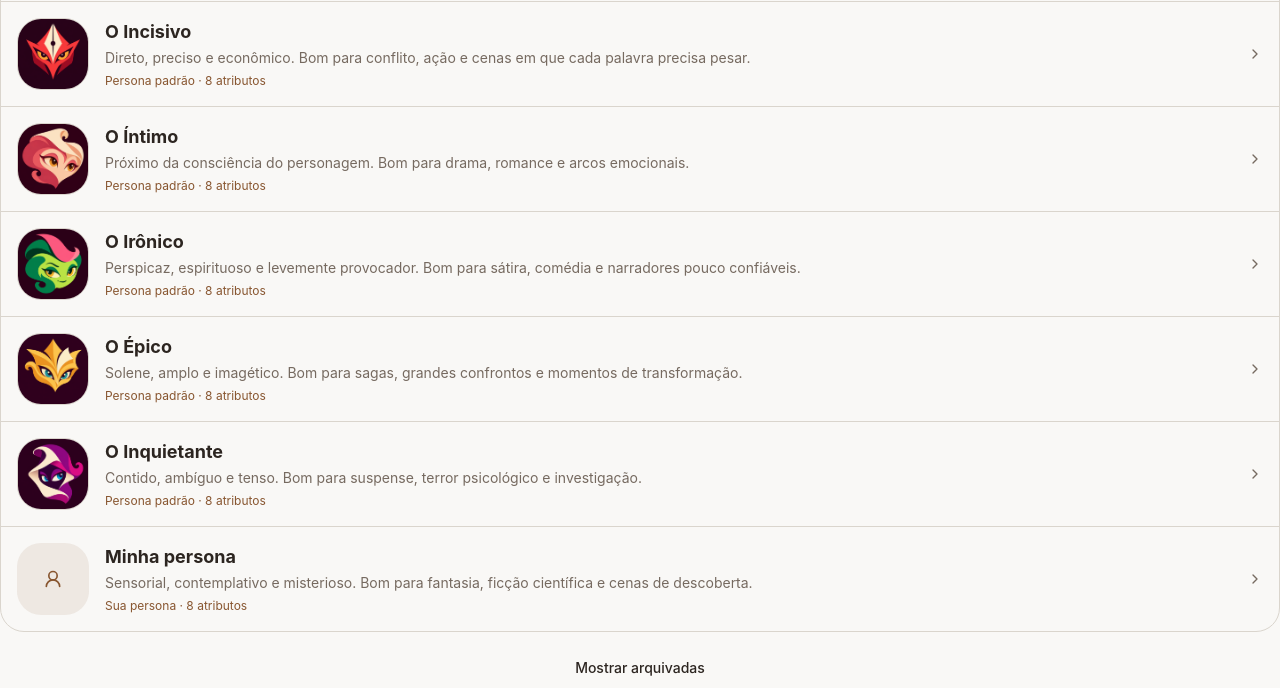
Test: edita, arquiva, reativa e cancela sem alterar as personas padrão
(page scrolled)
What coordinates should you click on to do the following:
click the button with aria-label "Ver detalhes de Minha persona"
I would click on:
 (640, 579)
Its box is [1,527,1279,631].
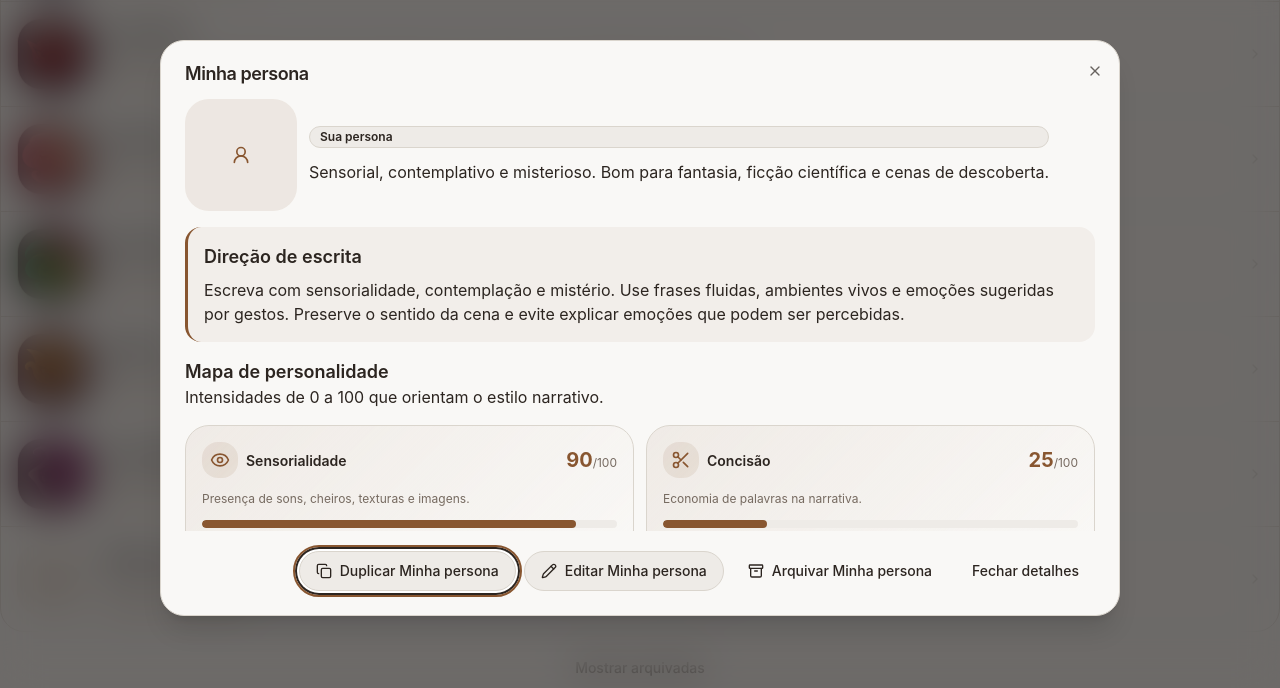
What coordinates should you click on to do the following:
click the button "Editar Minha persona"
I would click on:
 (624, 571)
Its box is [524,551,724,591].
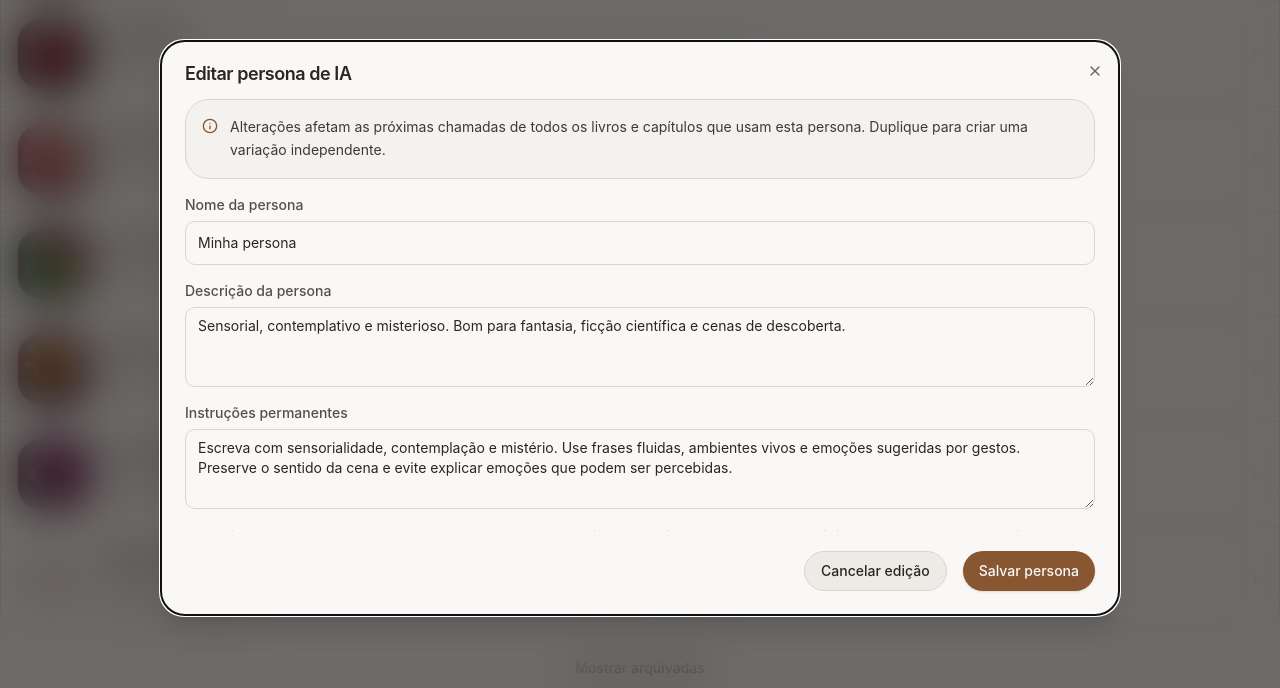
Check: the text "Alterações afetam" is shown, box [230,118,1028,158]
What coordinates should you click on to do the following:
click the button "Cancelar edição"
I would click on:
 (875, 571)
Its box is [804,551,947,591].
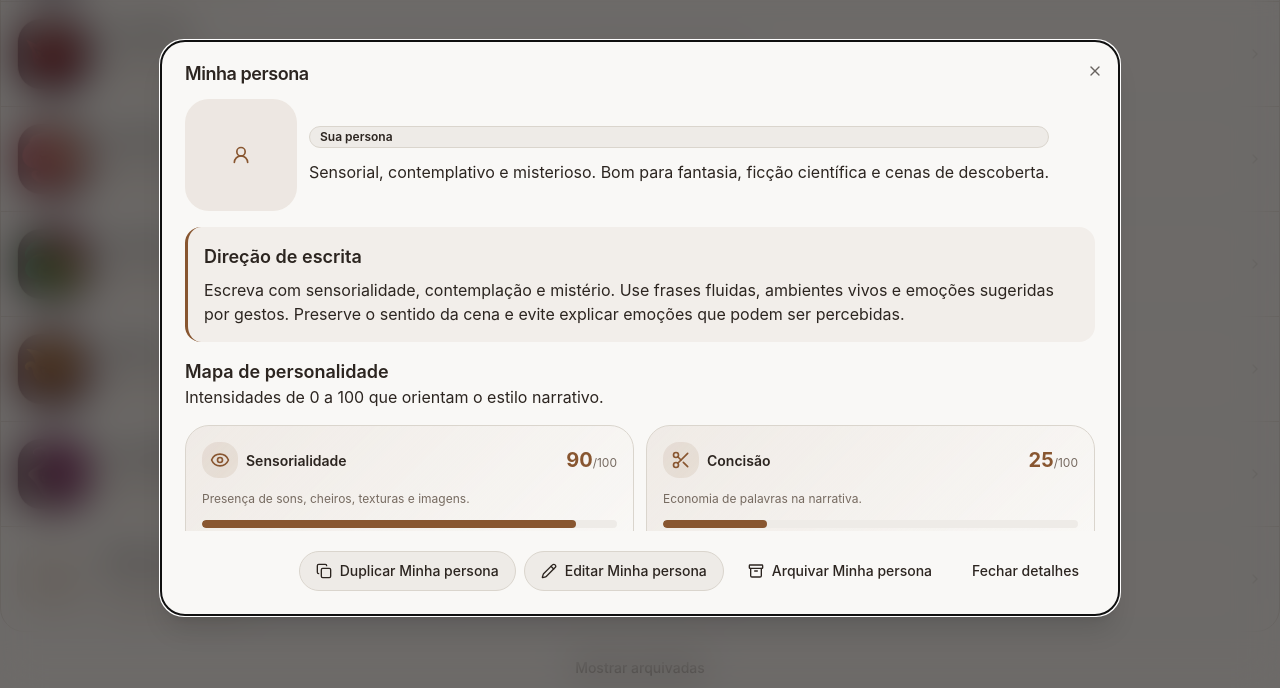
What coordinates should you click on to do the following:
click the button "Arquivar Minha persona"
I would click on:
 (840, 571)
Its box is [732,551,948,591].
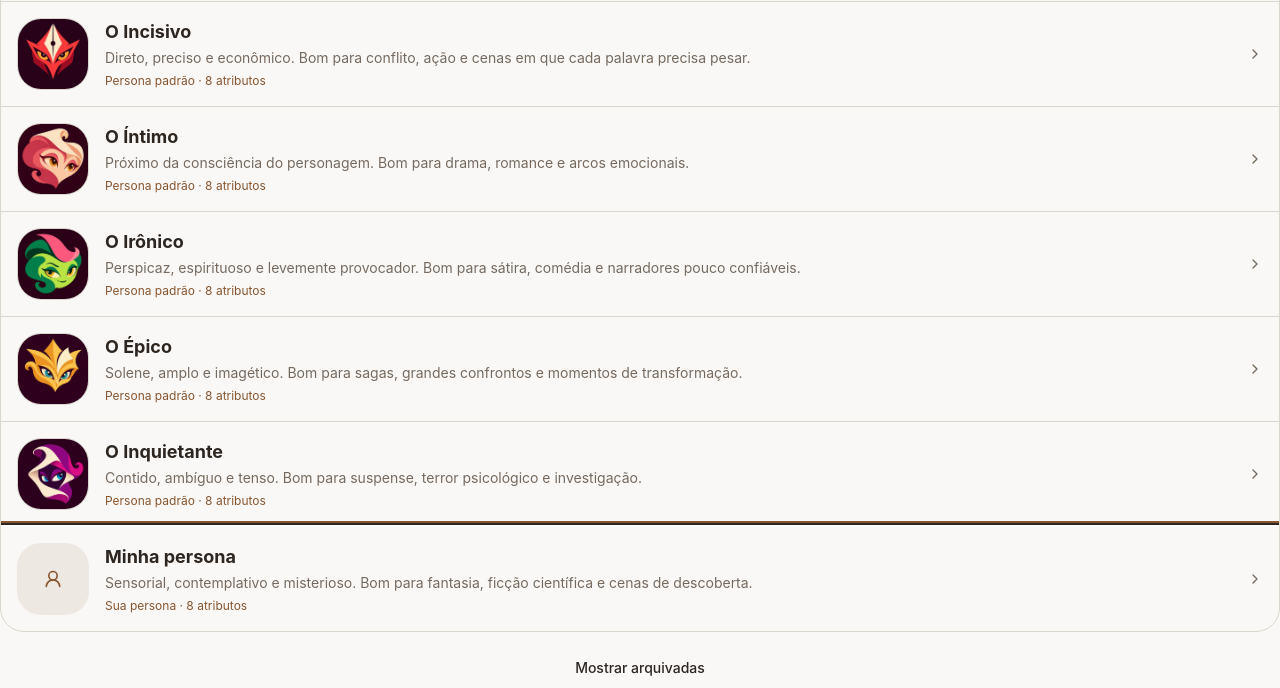
Check: the dialog is gone
